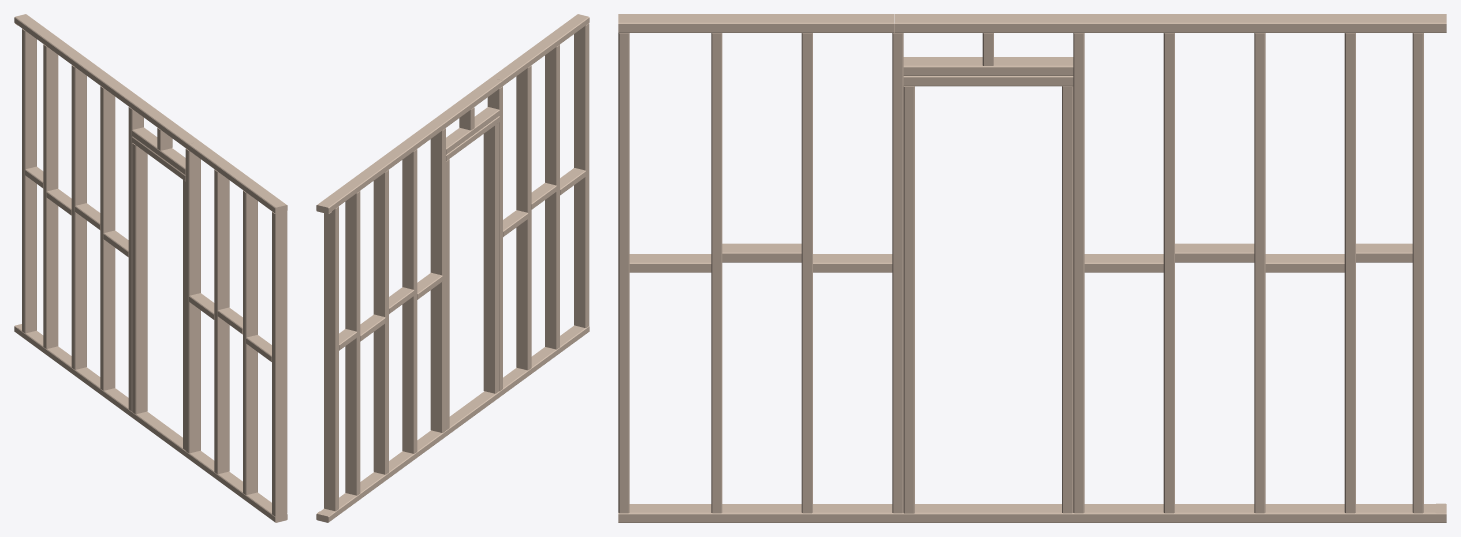
The model's file is Construction_Wall.fbx.
3 renders of one model, left to right at view 1: azimuth 30°, elevation 25°; view 2: azimuth 150°, elevation 25°; view 3: azimuth 270°, elevation 25°, orthographic. The views are drawn at different scales.
Visible parts, largest first — view 1: wall; view 2: wall; view 3: wall.
Boxes of the visible parts, x1,y1,x2,y2 form: wall: [14, 14, 287, 522]; wall: [316, 14, 589, 522]; wall: [618, 14, 1446, 522].
Size of the model in its own units: 10.5 by 244 by 366.
